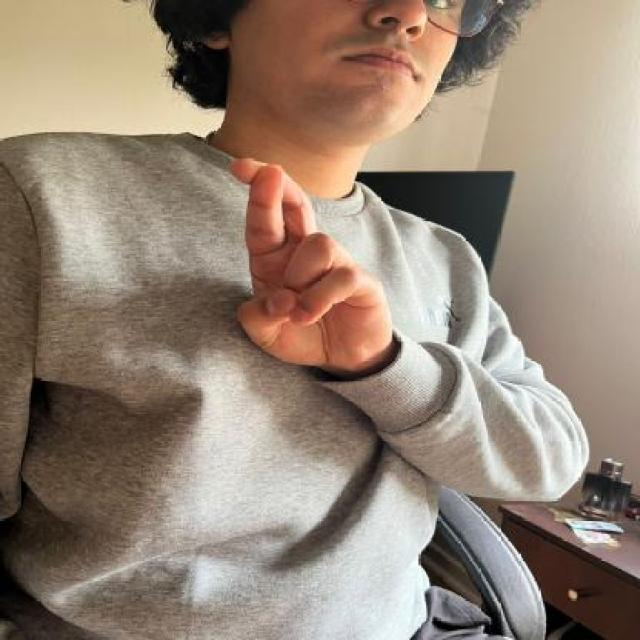R: (220, 143, 402, 374)
